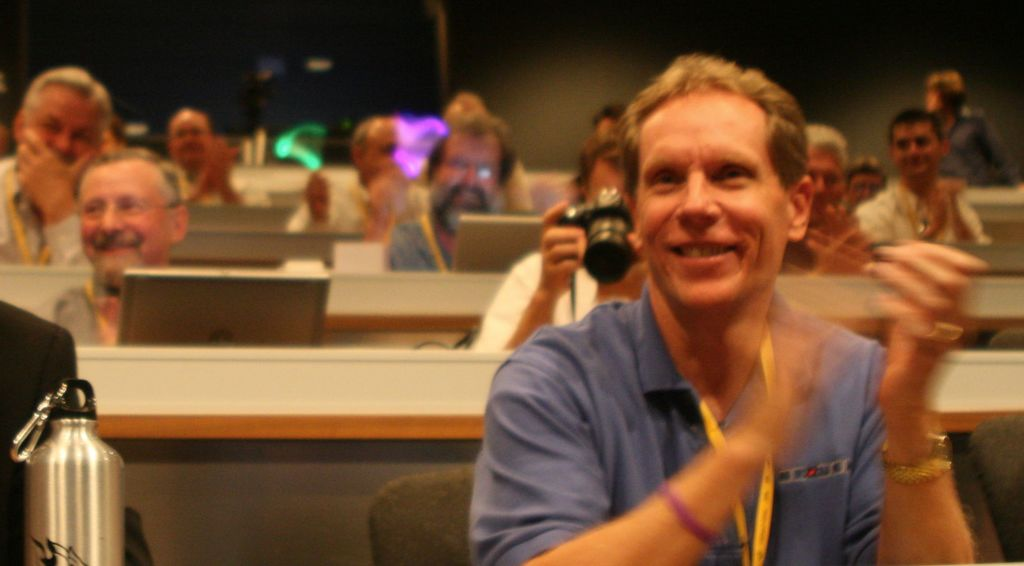Human_hand: (849, 199, 989, 397), (730, 283, 837, 444), (15, 125, 96, 213), (541, 198, 586, 292), (815, 225, 872, 279), (206, 134, 243, 190), (822, 199, 862, 248), (303, 172, 332, 220), (628, 228, 646, 289), (925, 181, 952, 220), (195, 169, 217, 199), (950, 174, 967, 212)
